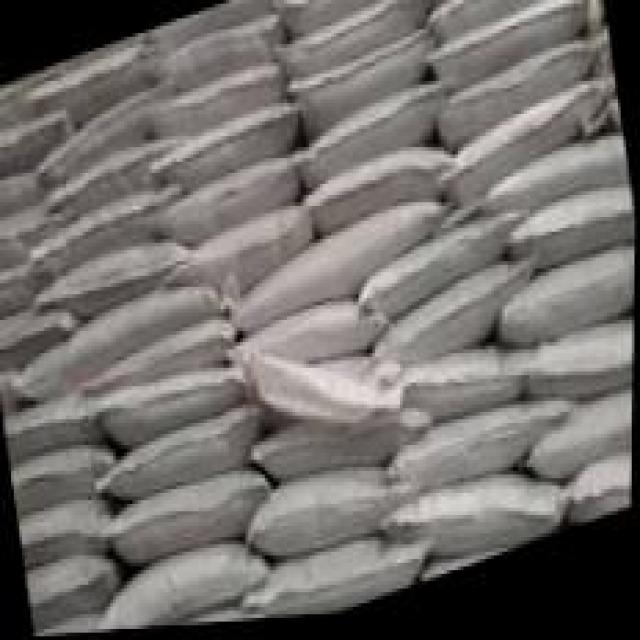gunny_bag: (236, 195, 438, 342), (20, 284, 211, 402), (383, 261, 530, 381), (368, 210, 512, 329), (404, 403, 560, 502), (459, 85, 593, 199), (448, 42, 578, 153), (431, 0, 583, 89), (48, 75, 171, 183), (109, 411, 251, 504), (509, 249, 636, 352), (310, 85, 435, 184), (311, 145, 443, 238), (164, 98, 292, 193), (119, 476, 257, 563), (115, 550, 261, 632), (268, 407, 414, 489), (294, 36, 429, 124), (288, 0, 431, 82), (271, 546, 425, 622), (497, 143, 629, 227), (168, 154, 288, 245), (39, 191, 162, 278), (248, 303, 384, 379), (55, 241, 191, 313), (191, 209, 304, 295), (271, 482, 394, 560), (106, 368, 236, 441), (156, 18, 276, 92), (419, 493, 560, 552), (405, 366, 519, 425), (546, 334, 635, 407), (437, 0, 548, 52), (27, 552, 103, 626), (3, 396, 81, 467), (19, 505, 98, 573), (12, 447, 93, 513), (557, 414, 634, 482), (572, 469, 633, 533), (0, 311, 60, 366), (294, 0, 377, 38), (0, 207, 67, 252), (0, 112, 62, 160), (0, 167, 37, 210)
